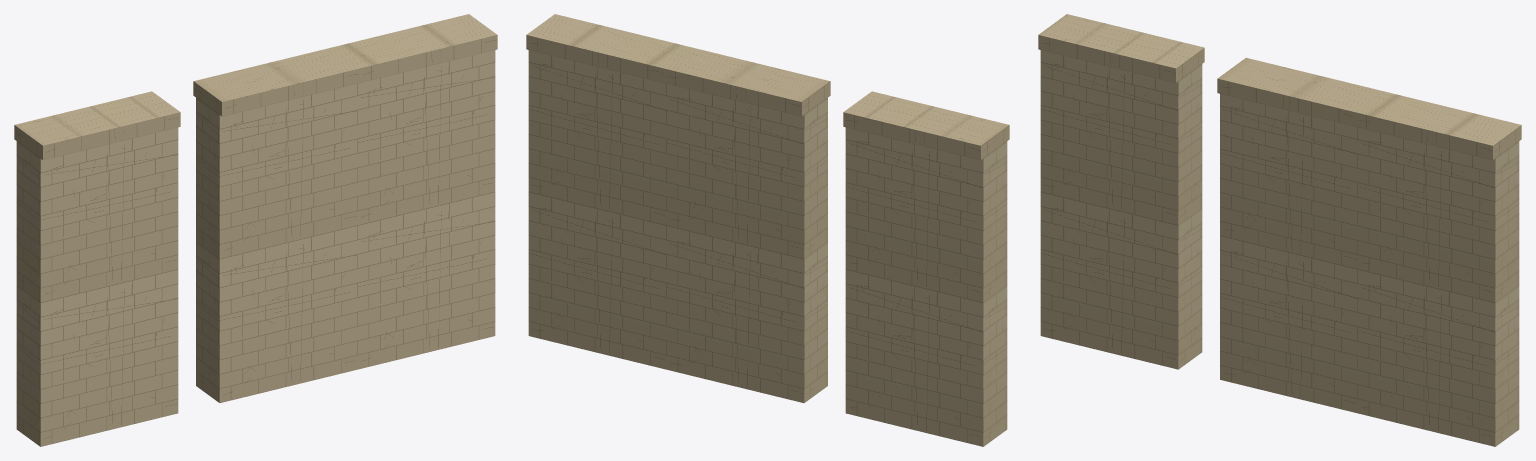
Rendered from tileset_showcase_all.obj.
The picture shows the model from 3 angles, left to right: view 1: azimuth 30°, elevation 25°; view 2: azimuth 150°, elevation 25°; view 3: azimuth 330°, elevation 25°; orthographic projection.
Parts seen in each view (by area): view 1: corner_outer_1m, wall_straight_1m; view 2: corner_outer_1m, wall_straight_1m; view 3: corner_outer_1m, wall_straight_1m.
Part boxes in pixels (bbox=[...]): corner_outer_1m: bbox=[193, 14, 497, 402]; wall_straight_1m: bbox=[14, 91, 180, 446]; corner_outer_1m: bbox=[526, 14, 830, 402]; wall_straight_1m: bbox=[843, 91, 1009, 446]; corner_outer_1m: bbox=[1217, 57, 1521, 446]; wall_straight_1m: bbox=[1038, 14, 1204, 369].
Bounding box in the file's own units: 3.3 × 2.1 × 0.36.
Materials: 1 (1 with a texture image).
